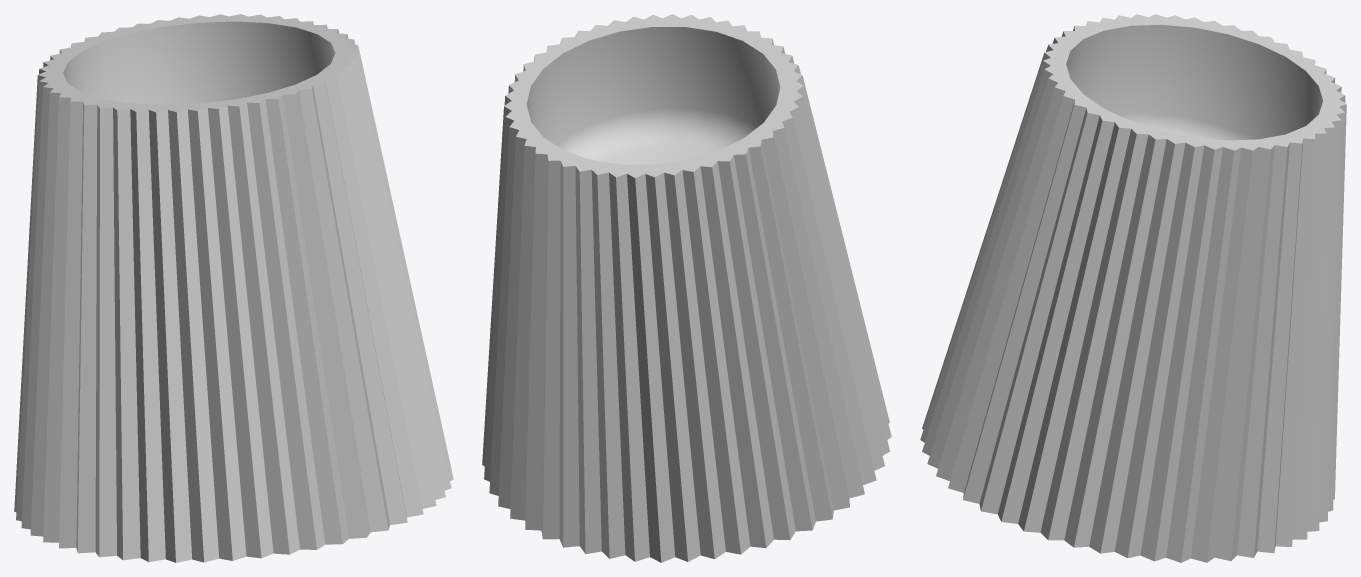
File: toothpasteLid.glb
The picture shows the model from 3 angles, left to right: view 1: azimuth 30°, elevation 25°; view 2: azimuth 150°, elevation 25°; view 3: azimuth 270°, elevation 25°; orthographic projection. The views are drawn at different scales.
Visible parts, largest first — view 1: Toothpaste_Lid; view 2: Toothpaste_Lid; view 3: Toothpaste_Lid.
Part boxes in pixels (x1,y1,x2,y2): Toothpaste_Lid: (14,14,453,562); Toothpaste_Lid: (482,14,891,562); Toothpaste_Lid: (920,14,1346,562).
Bounding box in the file's own units: 0.0167 × 0.0192 × 0.017.
1 material, 1 textured.
